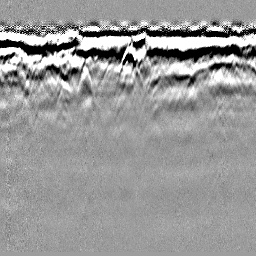cavity: (119, 46, 137, 73)
